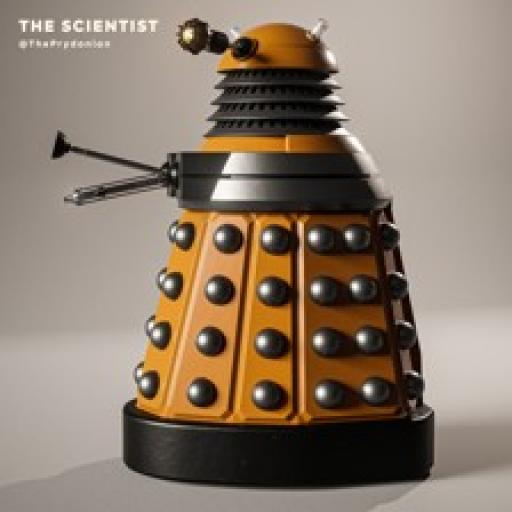dalek: (47, 12, 446, 491)
